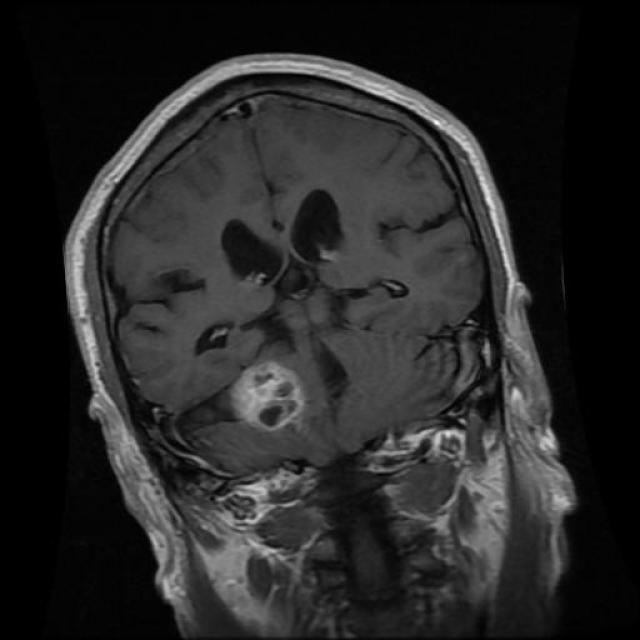meningioma: (228, 361, 301, 432)
